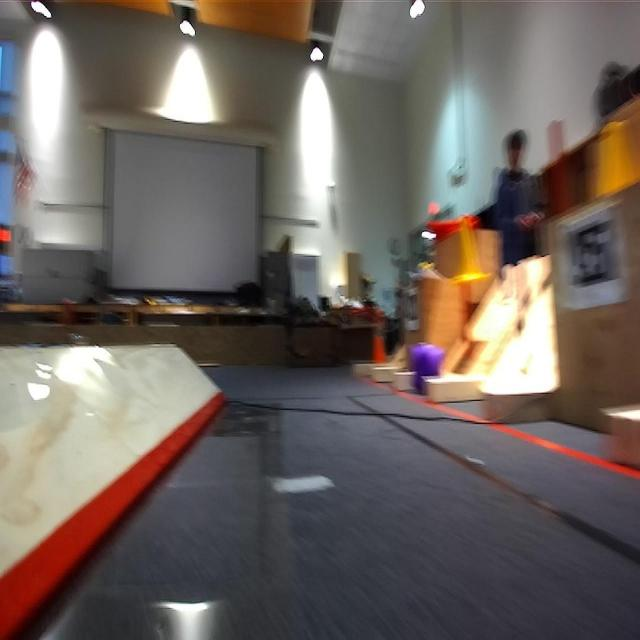frc_cone: (590, 114, 640, 194), (449, 212, 485, 284)
frc_cube: (409, 342, 443, 388)
